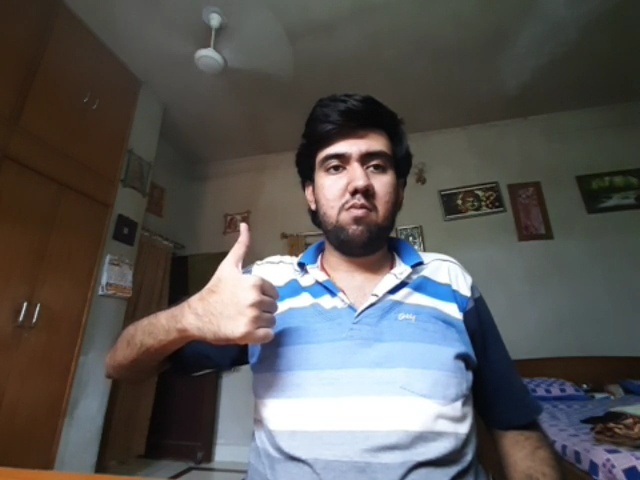Ok: (201, 222, 279, 343)
